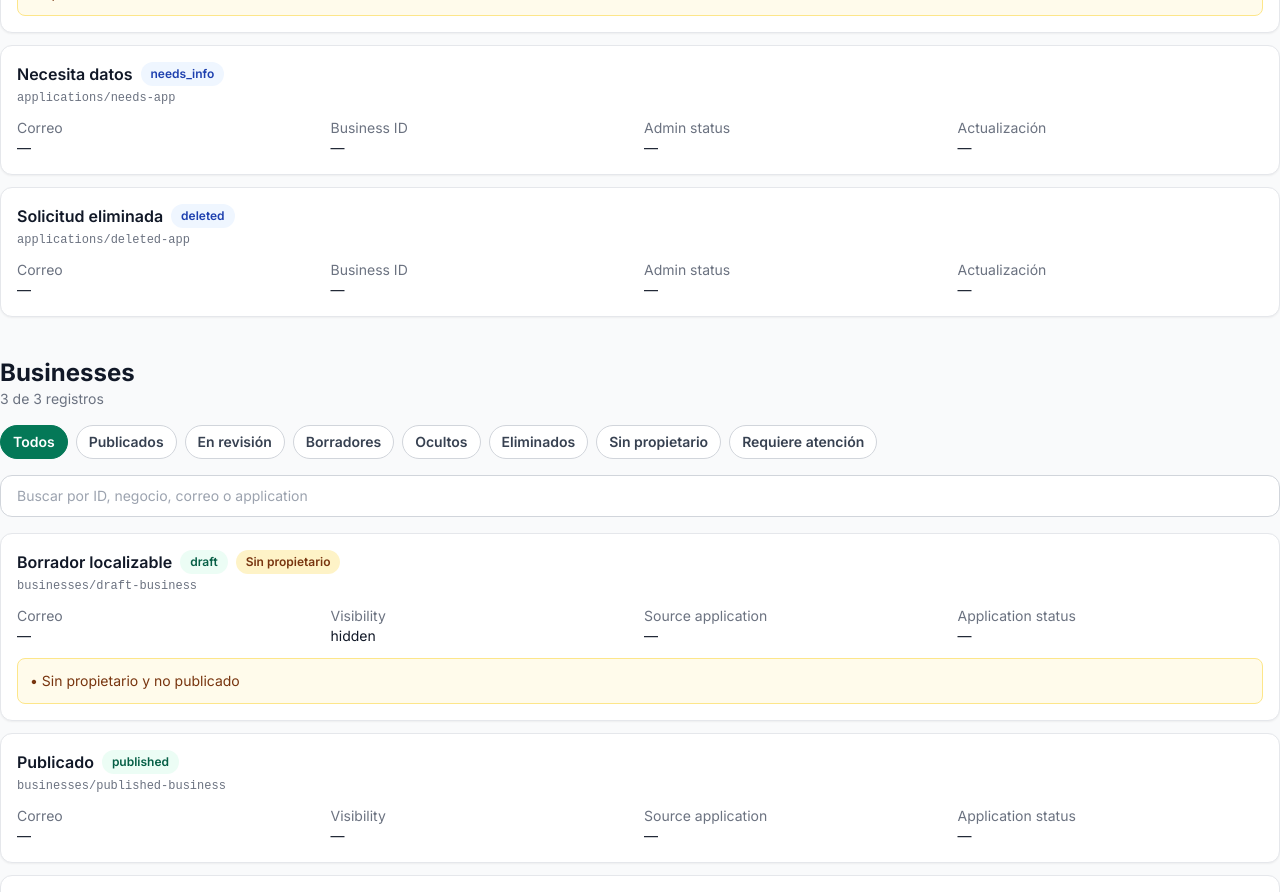
admin records observability › locates a draft, hidden and ownerless business and exposes its attention reason
The width and height of the screenshot is (1280, 892).
(page scrolled)
Click the button "Borradores" at point(344, 442), box top-left (293, 425), bottom-right (394, 459)
(page scrolled)
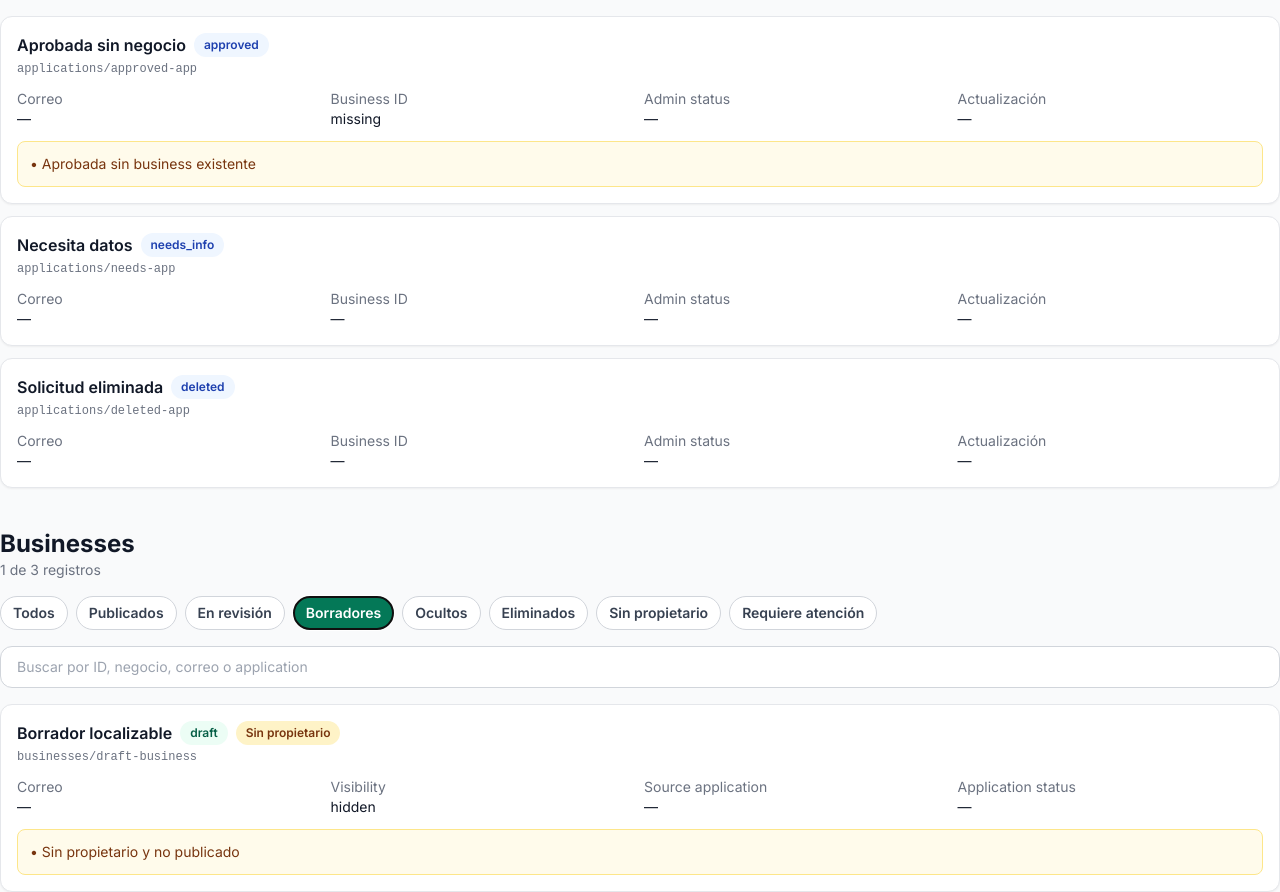
Expected: the heading "Borrador localizable" is shown, top-left (17, 721), bottom-right (172, 745)
Click the button "Ocultos" at point(441, 613), box top-left (402, 596), bottom-right (481, 630)
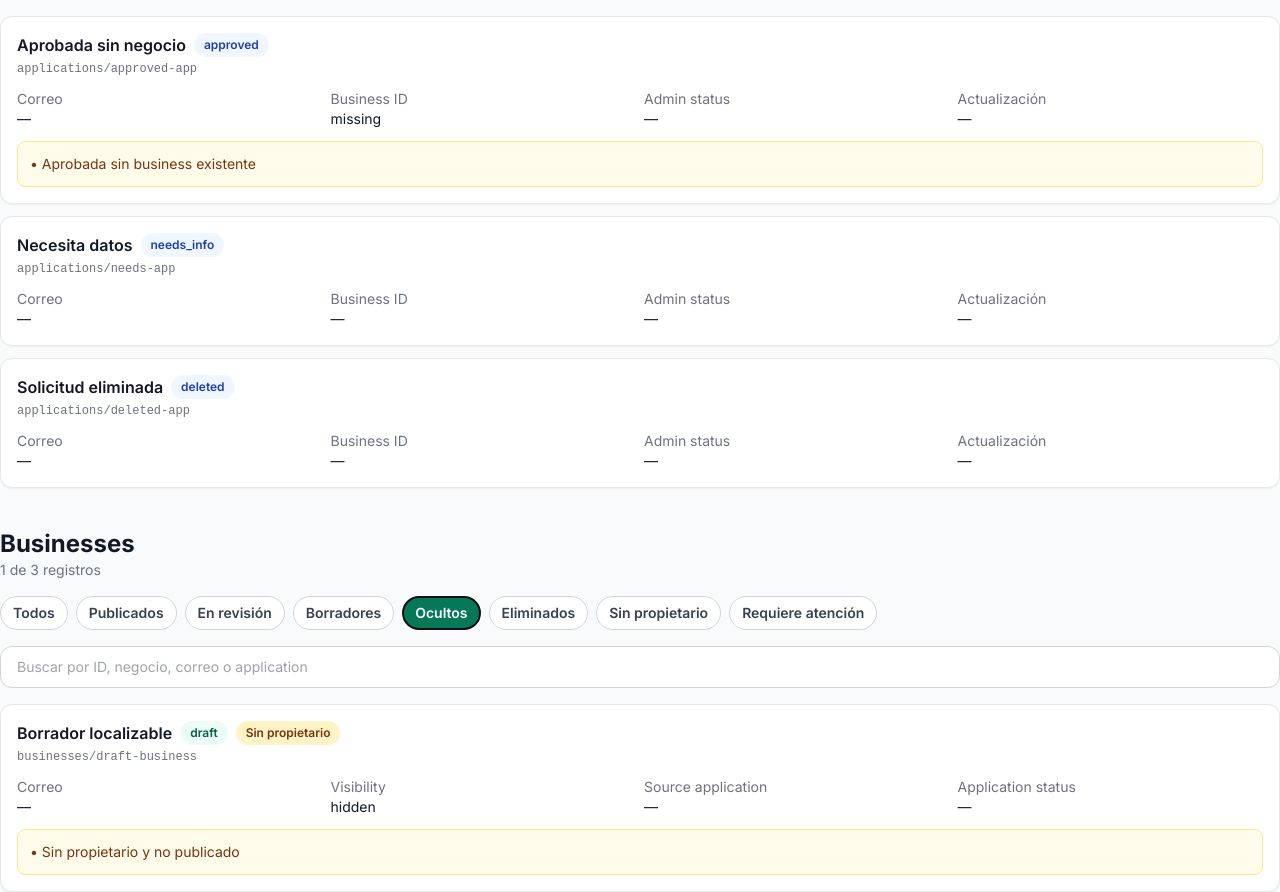
Expected: the heading "Borrador localizable" is shown, top-left (17, 721), bottom-right (172, 745)
Click the button "Sin propietario" at point(659, 613), box top-left (596, 596), bottom-right (721, 630)
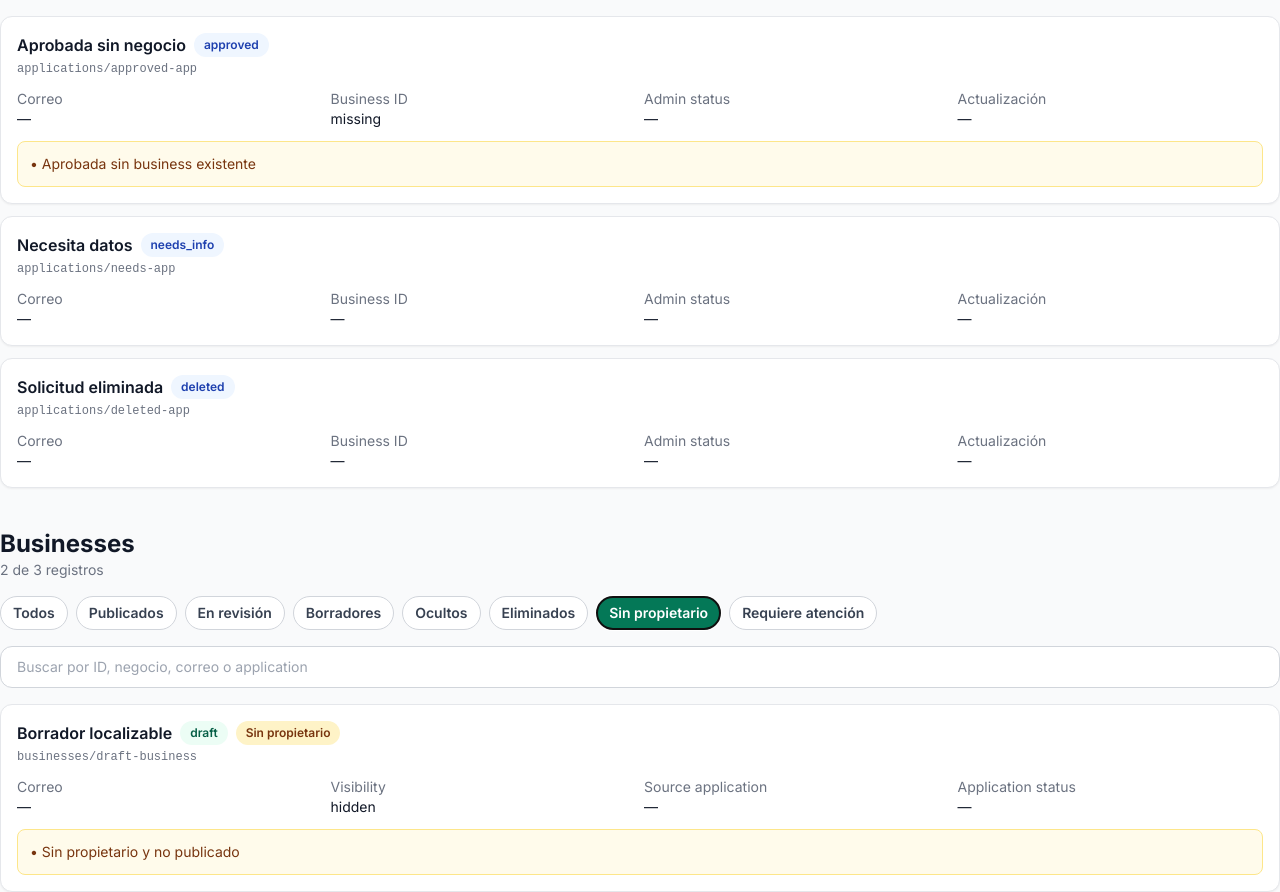
Expected: the heading "Borrador localizable" is shown, top-left (17, 721), bottom-right (172, 745)
Click the button "Eliminados" at point(538, 613), box top-left (488, 596), bottom-right (588, 630)
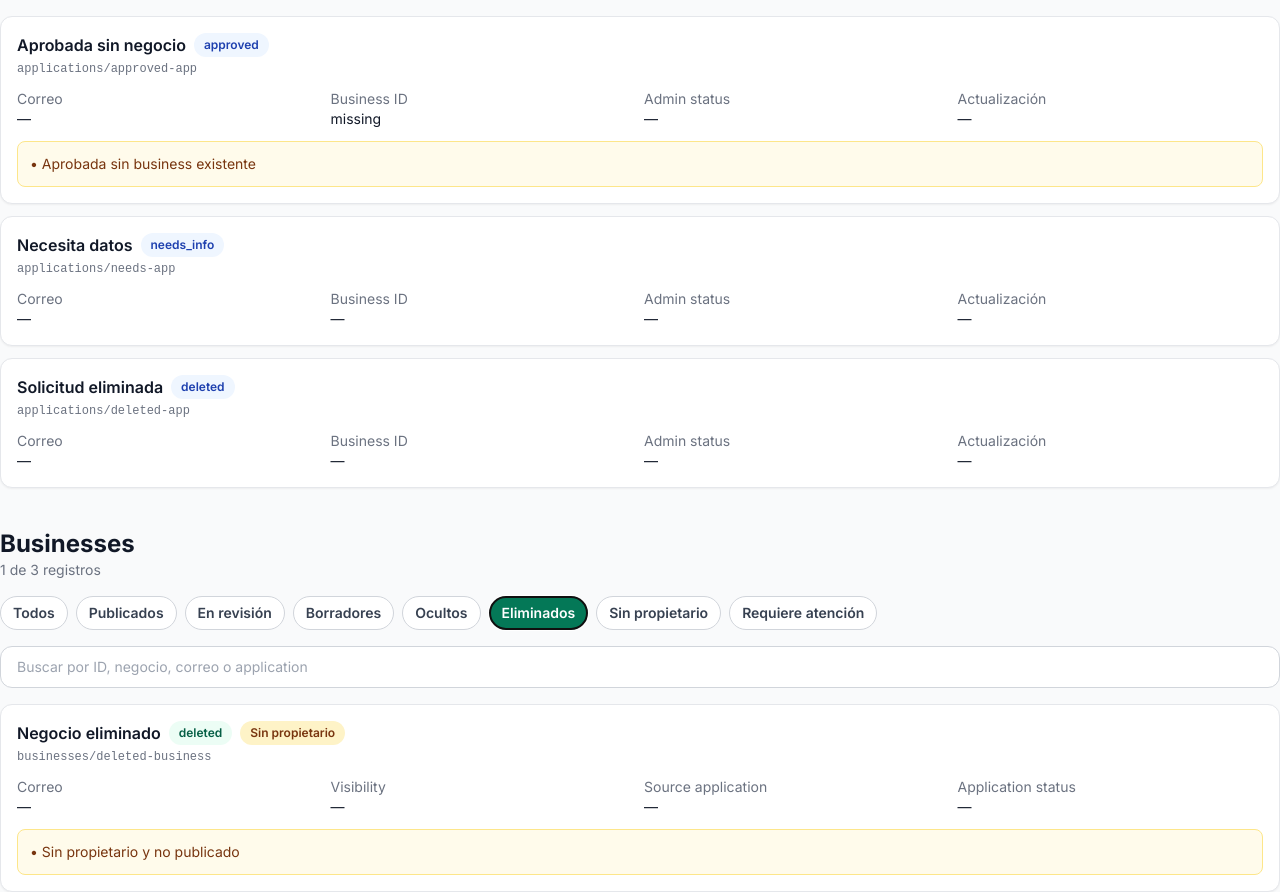
Result: the heading "Negocio eliminado" is shown at top-left (17, 721), bottom-right (161, 745)
Click the button "Requiere atención" at point(803, 613), box top-left (729, 596), bottom-right (877, 630)
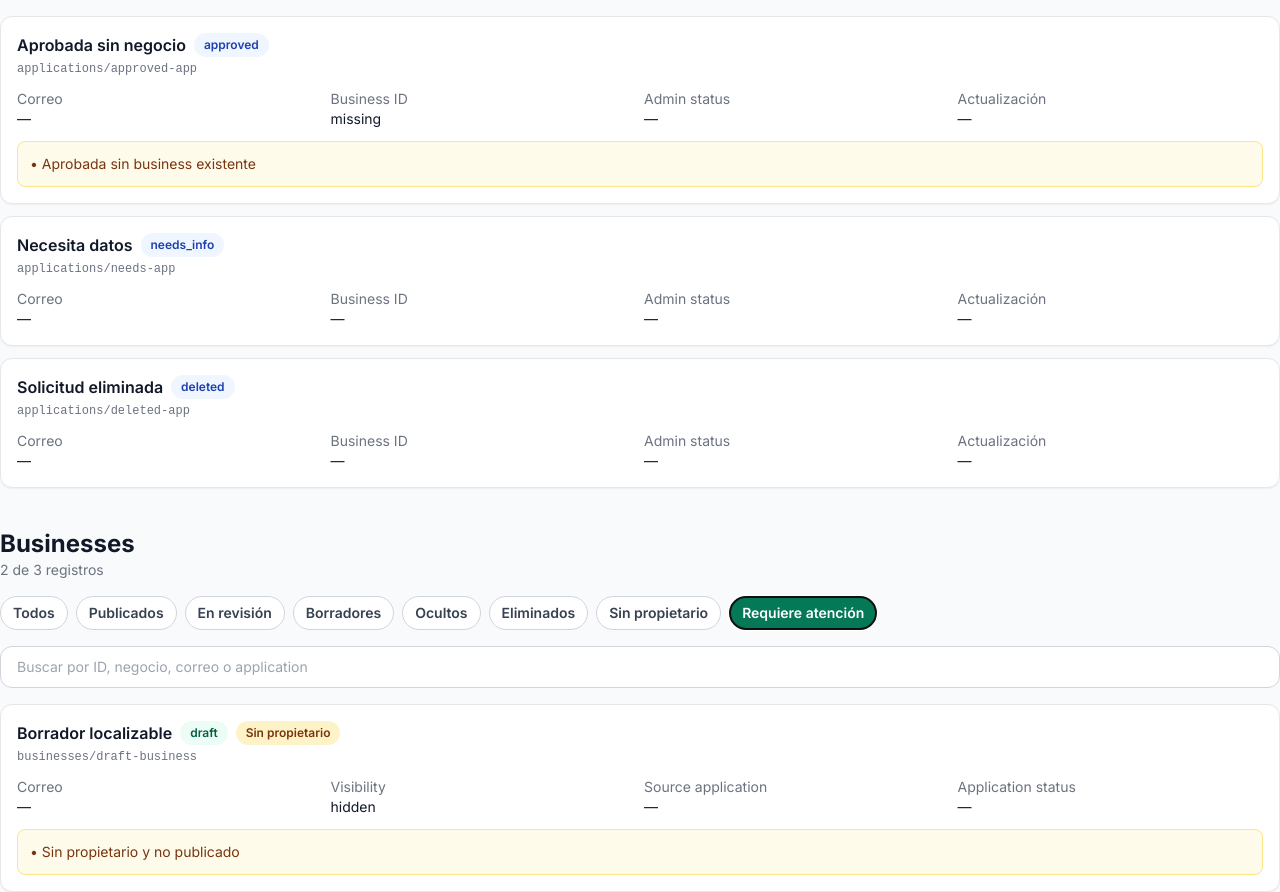
Expected: the list item "• Sin propietario y no publicado" is shown, top-left (30, 843), bottom-right (240, 860)
Result: the text "Borrador localizable" is shown at top-left (17, 723), bottom-right (172, 743)
